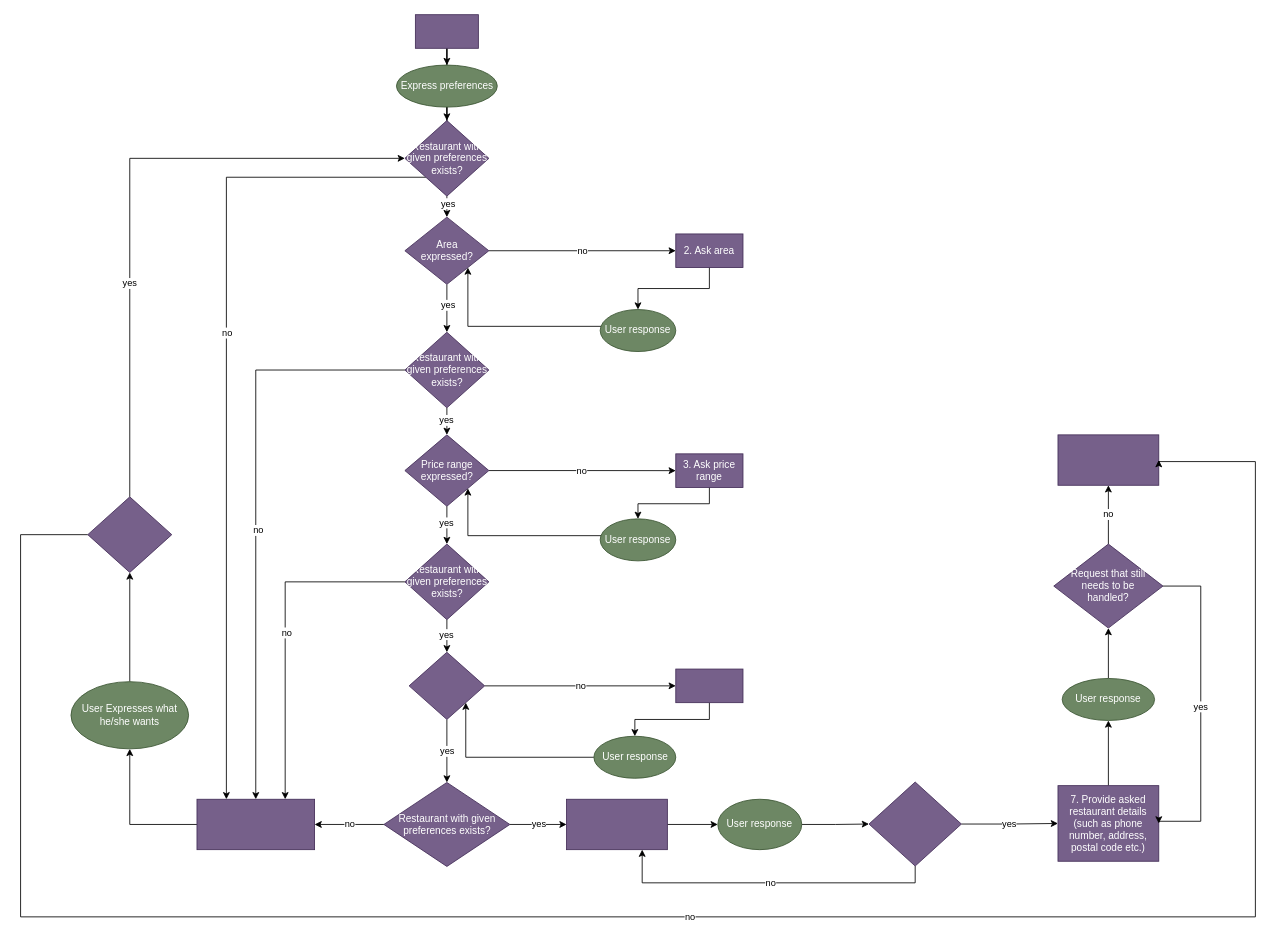
Image size: 1277x938. Some labels were removed from this diagram. The centre of each missing label's shape, as x and y in pixels:
1. Welcome: the point at 446,31
4. Ask food type: the point at 709,685
5. Express that no restaurant is possible with current information: the point at 255,824
6. Suggest Restaurant: the point at 616,824
8. Goodbye: the point at 1108,459
Food type expressed?: the point at 446,685
User asks for restaurant details?: the point at 914,823
User wants a suggestion?: the point at 129,534
